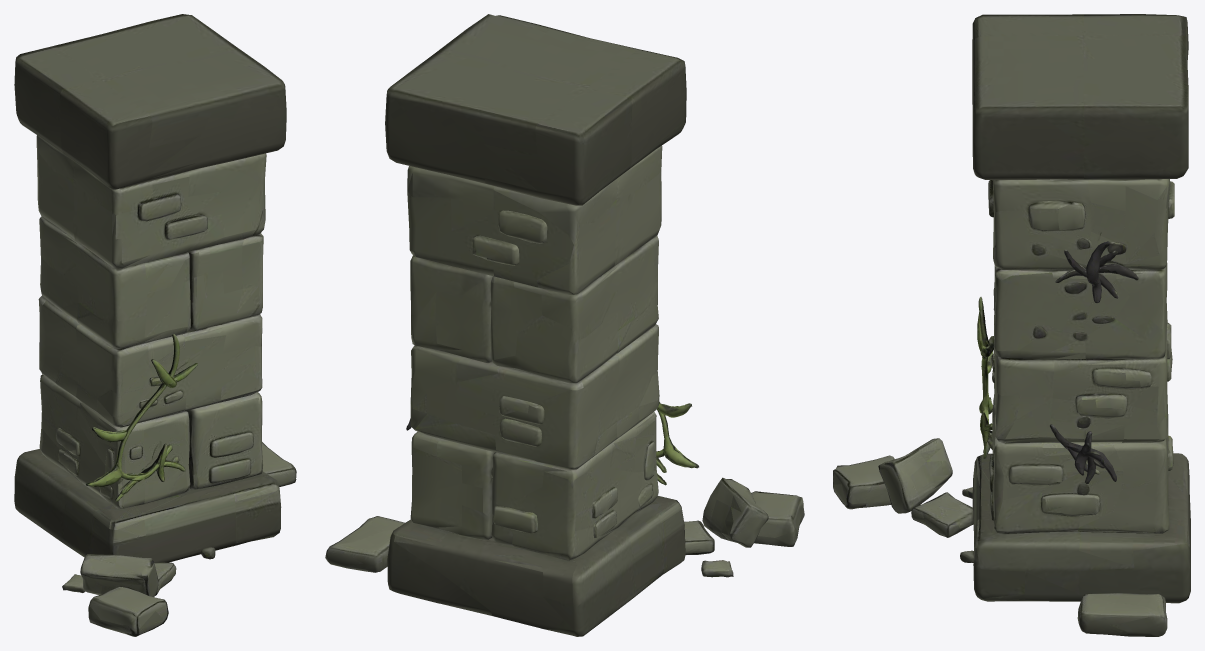
The model's file is jd_pilar.glb.
3 renders of one model, left to right at view 1: azimuth 30°, elevation 25°; view 2: azimuth 150°, elevation 25°; view 3: azimuth 270°, elevation 25°, orthographic. The views are drawn at different scales.
Visible parts, largest first — view 1: mesh_node.001; view 2: mesh_node.001; view 3: mesh_node.001.
Part boxes in pixels (<box>): mesh_node.001: <box>14,14,296,636</box>; mesh_node.001: <box>325,14,804,636</box>; mesh_node.001: <box>833,14,1190,636</box>.
Size of the model in its own units: 0.6875 by 1 by 0.6484.
Materials: 1 (1 with a texture image).
